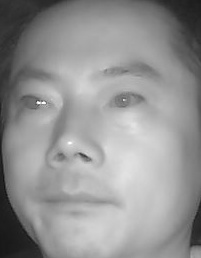eye: (105, 88, 147, 113), (18, 90, 56, 115)
mouth: (37, 181, 120, 224)
